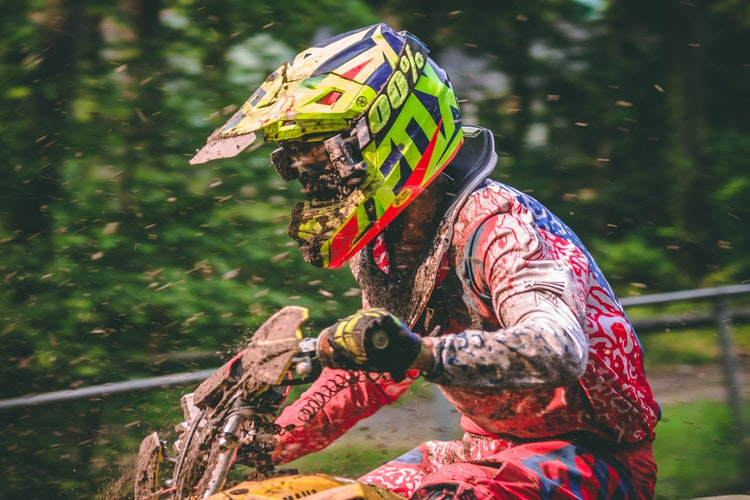helmet: (246, 30, 461, 233)
